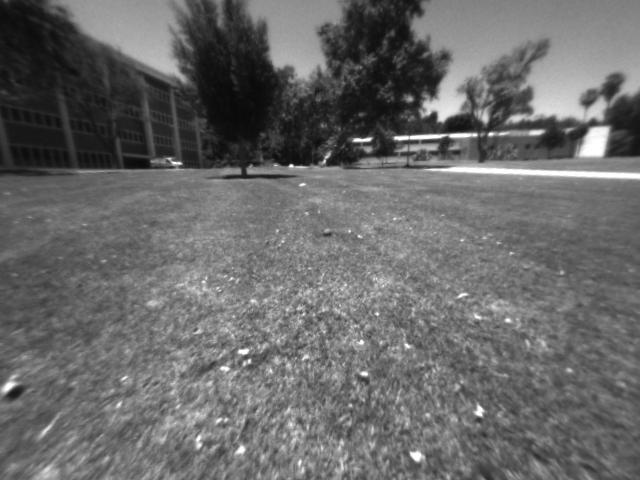dogtoy: (315, 223, 339, 240)
